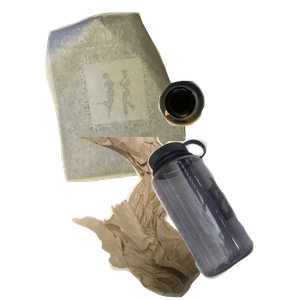glass: (156, 78, 300, 197)
paper: (43, 10, 221, 185)
plastic: (145, 136, 300, 300)
trash: (66, 137, 263, 300)
